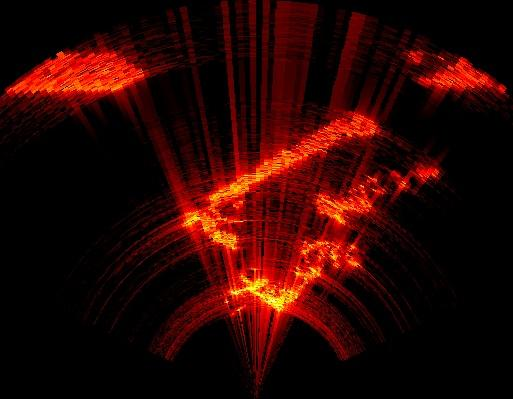shipwreck: (180, 114, 379, 251), (232, 240, 361, 308), (311, 171, 436, 225), (9, 52, 146, 96), (423, 58, 505, 92)
